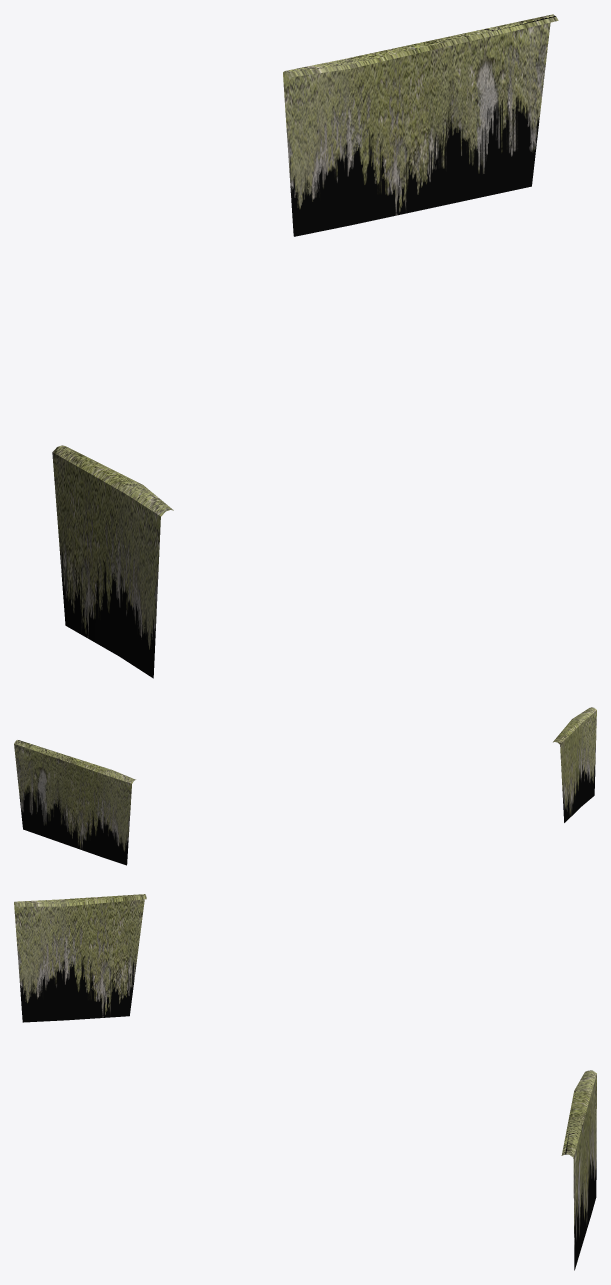
File: SM_Chateaux_04_02.fbx
3 renders of one model, top to bottom at view 1: azimuth 30°, elevation 25°; view 2: azimuth 150°, elevation 25°; view 3: azimuth 270°, elevation 25°, orthographic. The views are drawn at different scales.
Visible parts, largest first — view 1: SM_Chateaux_04_02; view 2: SM_Chateaux_04_02; view 3: SM_Chateaux_04_02.
Part boxes in pixels (bbox=[...]): SM_Chateaux_04_02: bbox=[52, 14, 558, 678]; SM_Chateaux_04_02: bbox=[14, 707, 596, 865]; SM_Chateaux_04_02: bbox=[14, 894, 596, 1270].
Bounding box in the file's own units: 1720 × 408 × 1512.
